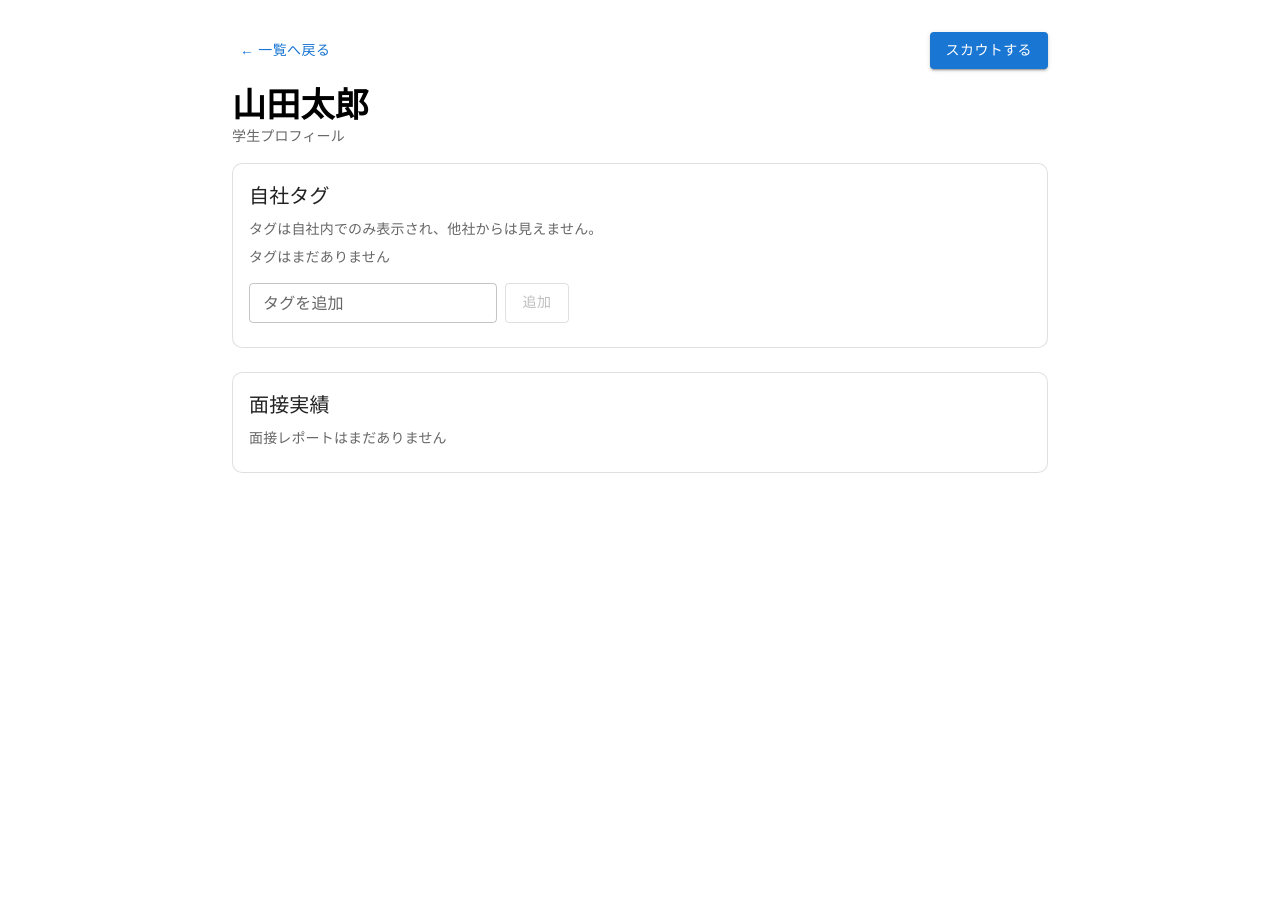
Scenario: StudentDetailContent › 企業名の取得に失敗したらスカウトを送れない
The image size is (1280, 900).
Click the button "スカウトする": (989, 50) [930,32,1048,68]
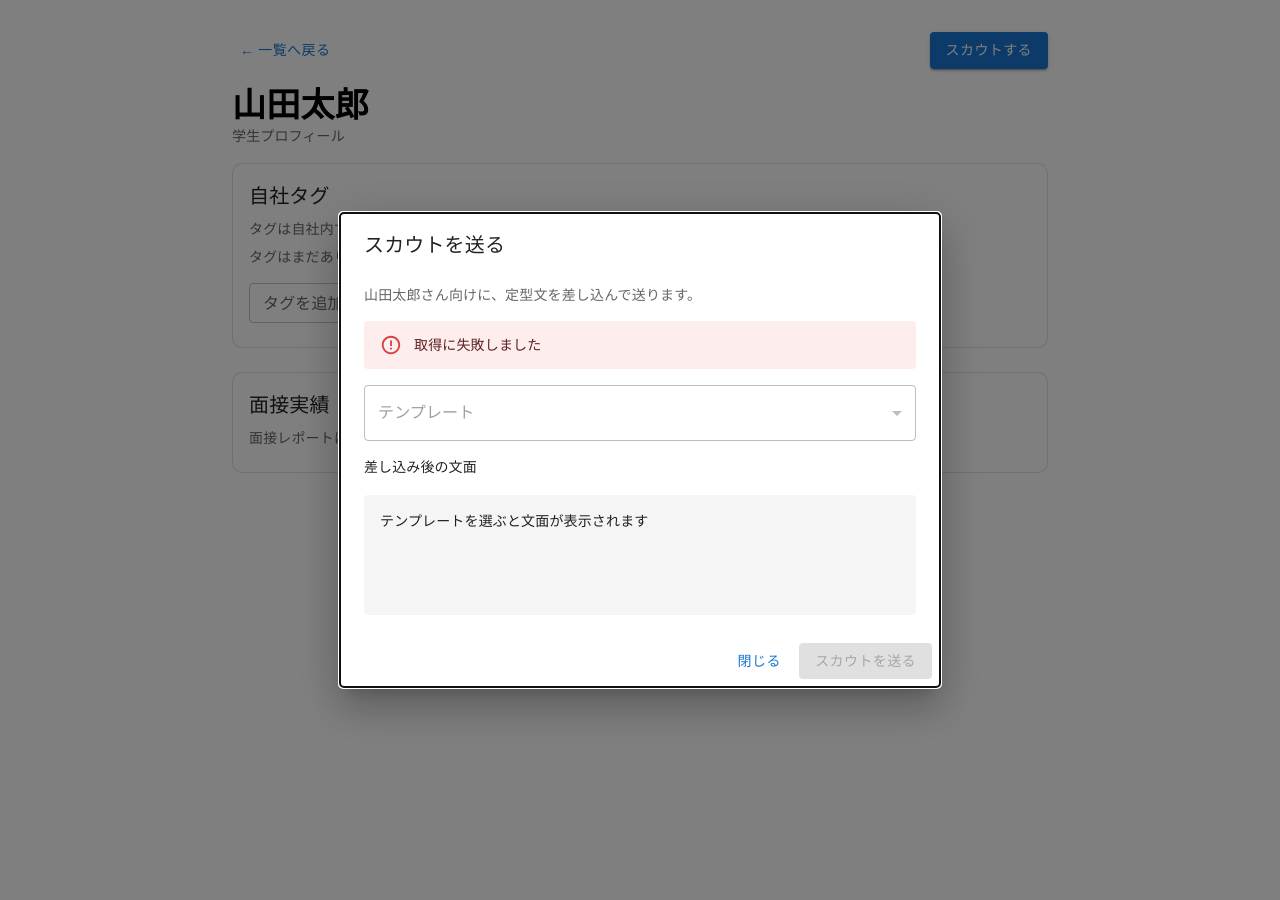
Expected: the text "取得に失敗しました" is shown, [414,337,541,353]
Expected: the button "スカウトを送る" is disabled, [799,643,932,679]
